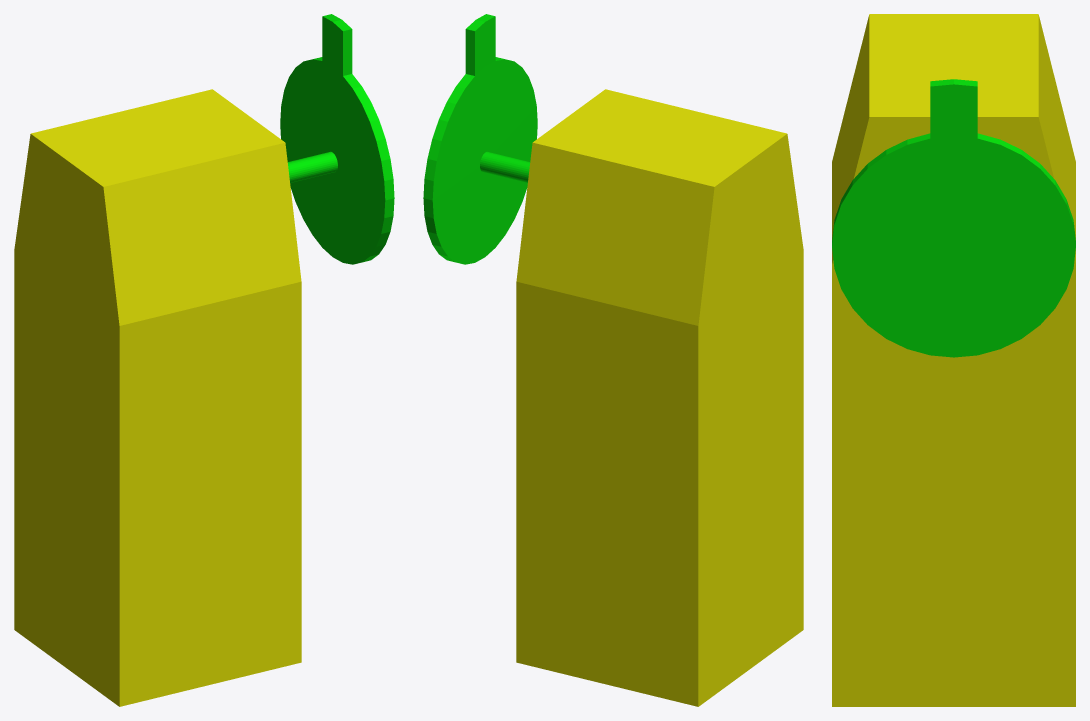
File: TestWheel.fbx
The picture shows the model from 3 angles, left to right: view 1: azimuth 30°, elevation 25°; view 2: azimuth 150°, elevation 25°; view 3: azimuth 270°, elevation 25°; orthographic projection. The views are drawn at different scales.
Parts seen in each view (by area): view 1: WheelHolder, Wheel; view 2: WheelHolder, Wheel; view 3: WheelHolder, Wheel.
Boxes of the visible parts, x1,y1,x2,y2 form: WheelHolder: (14,89,301,706); Wheel: (280,14,394,264); WheelHolder: (516,89,803,706); Wheel: (423,14,537,264); WheelHolder: (832,14,1075,706); Wheel: (832,79,1075,357).
Size of the model in its own units: 75.55 by 153 by 50.
